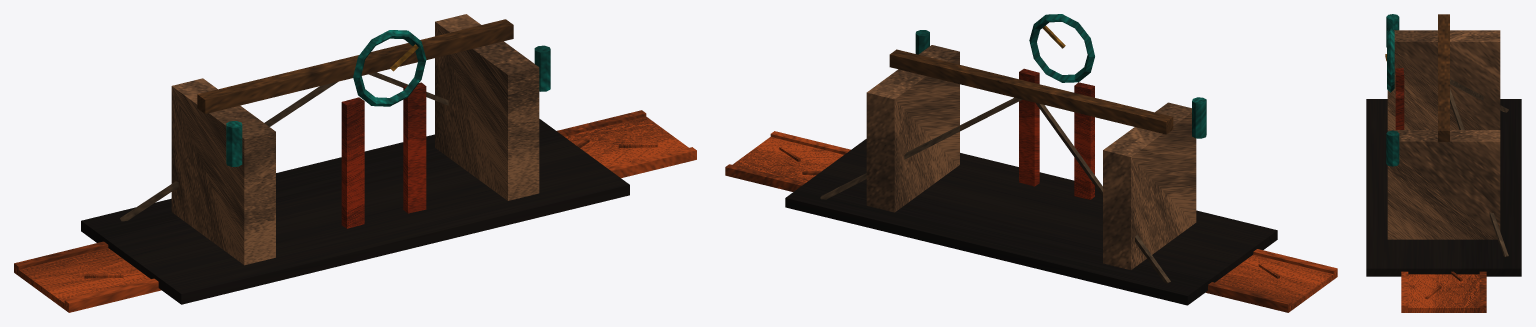
Rendered from canal-gate-works.glb.
The picture shows the model from 3 angles, left to right: view 1: azimuth 30°, elevation 25°; view 2: azimuth 150°, elevation 25°; view 3: azimuth 270°, elevation 25°; orthographic projection. The views are drawn at different scales.
Visible parts, largest first — view 1: canal-gate-works; view 2: canal-gate-works; view 3: canal-gate-works.
Boxes of the visible parts, x1,y1,x2,y2 form: canal-gate-works: [14, 14, 696, 312]; canal-gate-works: [725, 14, 1337, 312]; canal-gate-works: [1366, 14, 1521, 312].
Bounding box in the file's own units: 11.2 × 3.61 × 3.1.
Materials: 1 (1 with a texture image).
